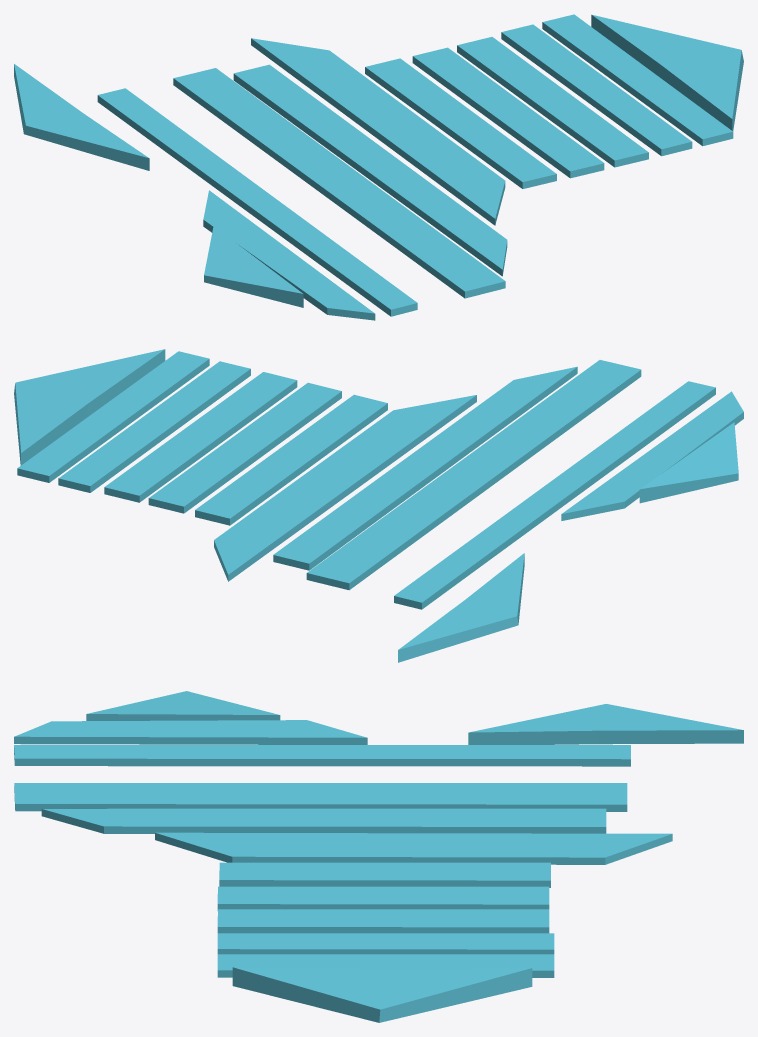
The model's file is water2.fbx.
3 renders of one model, top to bottom at view 1: azimuth 30°, elevation 25°; view 2: azimuth 150°, elevation 25°; view 3: azimuth 270°, elevation 25°, orthographic. The views are drawn at different scales.
Visible parts, largest first — view 1: Cube.049, Cube.029, Cube.040, Cube.045, Cube.026, Cube.027, Cube.041, Cube.028, Cube.042, Cube.050, Cube.024, Cube.002 (+1 smaller); view 2: Cube.049, Cube.029, Cube.040, Cube.045, Cube.026, Cube.027, Cube.041, Cube.028, Cube.042, Cube.050, Cube.024, Cube.002 (+1 smaller); view 3: Cube.049, Cube.029, Cube.040, Cube.045, Cube.026, Cube.041, Cube.028, Cube.027, Cube.024, Cube.002, Cube.042, Cube.050 (+1 smaller).
Boxes of the visible parts, x1=… form: Cube.049: x1=173, y1=68, x2=505, y2=298; Cube.029: x1=251, y1=38, x2=505, y2=225; Cube.040: x1=233, y1=64, x2=507, y2=276; Cube.045: x1=97, y1=88, x2=417, y2=316; Cube.026: x1=591, y1=14, x2=743, y2=131; Cube.027: x1=412, y1=47, x2=604, y2=178; Cube.041: x1=457, y1=37, x2=648, y2=167; Cube.028: x1=365, y1=58, x2=556, y2=188; Cube.042: x1=501, y1=24, x2=692, y2=156; Cube.050: x1=542, y1=14, x2=733, y2=146; Cube.024: x1=203, y1=190, x2=375, y2=320; Cube.002: x1=14, y1=64, x2=149, y2=170; Cube.049: x1=306, y1=360, x2=641, y2=590; Cube.029: x1=214, y1=395, x2=476, y2=581; Cube.040: x1=273, y1=366, x2=577, y2=570; Cube.045: x1=394, y1=381, x2=715, y2=609; Cube.026: x1=14, y1=349, x2=165, y2=465; Cube.027: x1=148, y1=382, x2=341, y2=513; Cube.041: x1=104, y1=372, x2=297, y2=502; Cube.028: x1=195, y1=394, x2=387, y2=525; Cube.042: x1=58, y1=361, x2=250, y2=492; Cube.050: x1=17, y1=351, x2=209, y2=482; Cube.024: x1=561, y1=391, x2=743, y2=520; Cube.002: x1=398, y1=553, x2=524, y2=662; Cube.049: x1=14, y1=783, x2=627, y2=811; Cube.029: x1=155, y1=832, x2=672, y2=864; Cube.040: x1=41, y1=808, x2=606, y2=833; Cube.045: x1=14, y1=745, x2=630, y2=766; Cube.026: x1=232, y1=967, x2=532, y2=1022; Cube.041: x1=217, y1=909, x2=549, y2=933; Cube.028: x1=219, y1=862, x2=550, y2=887; Cube.027: x1=217, y1=886, x2=549, y2=910; Cube.024: x1=14, y1=720, x2=367, y2=744; Cube.002: x1=468, y1=704, x2=743, y2=744; Cube.042: x1=217, y1=933, x2=554, y2=954; Cube.050: x1=217, y1=954, x2=554, y2=977.
Size of the model in its own units: 306 by 8.89 by 291.
